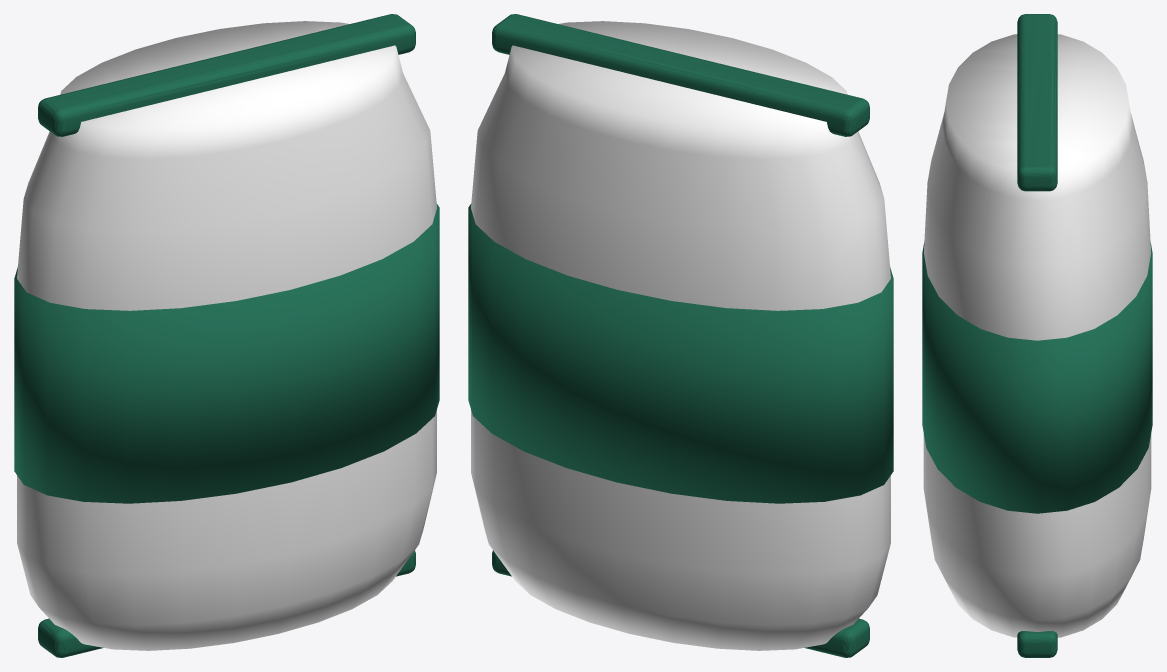
The model's file is bag.glb.
The picture shows the model from 3 angles, left to right: view 1: azimuth 30°, elevation 25°; view 2: azimuth 150°, elevation 25°; view 3: azimuth 270°, elevation 25°; orthographic projection. The views are drawn at different scales.
Parts seen in each view (by area): view 1: body, band, cap; view 2: body, band, cap; view 3: body, band, cap.
Boxes of the visible parts, bbox=[...] form: body: bbox=[17, 21, 436, 650]; band: bbox=[14, 204, 439, 503]; cap: bbox=[38, 14, 415, 657]; body: bbox=[471, 21, 890, 650]; band: bbox=[468, 204, 893, 503]; cap: bbox=[492, 14, 869, 657]; body: bbox=[923, 34, 1151, 637]; band: bbox=[922, 243, 1152, 513]; cap: bbox=[1017, 14, 1057, 657].
Size of the model in its own units: 0.62 by 0.8 by 0.34.
